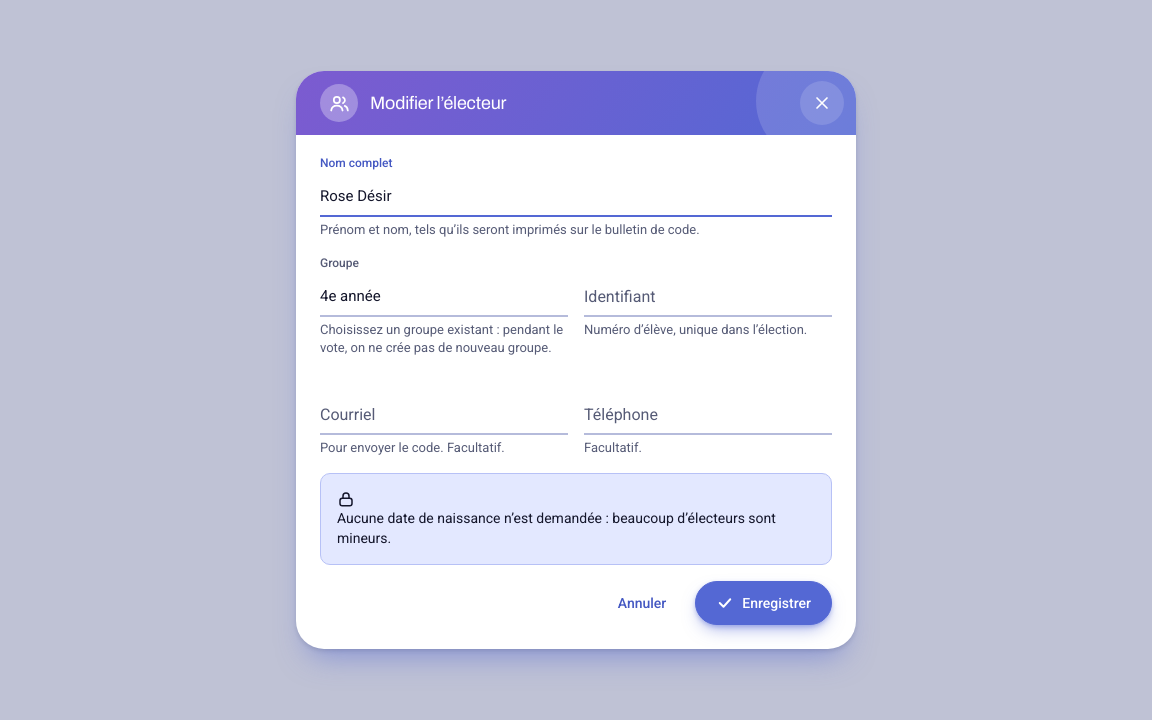
VoterModal in an open election › says a new group is not created while voting, and sends nothing
The image size is (1152, 720).
Step 1. Replace the text in the field with test id "voter-form-group" with "6e année" → [444, 295], box [320,273,568,317]
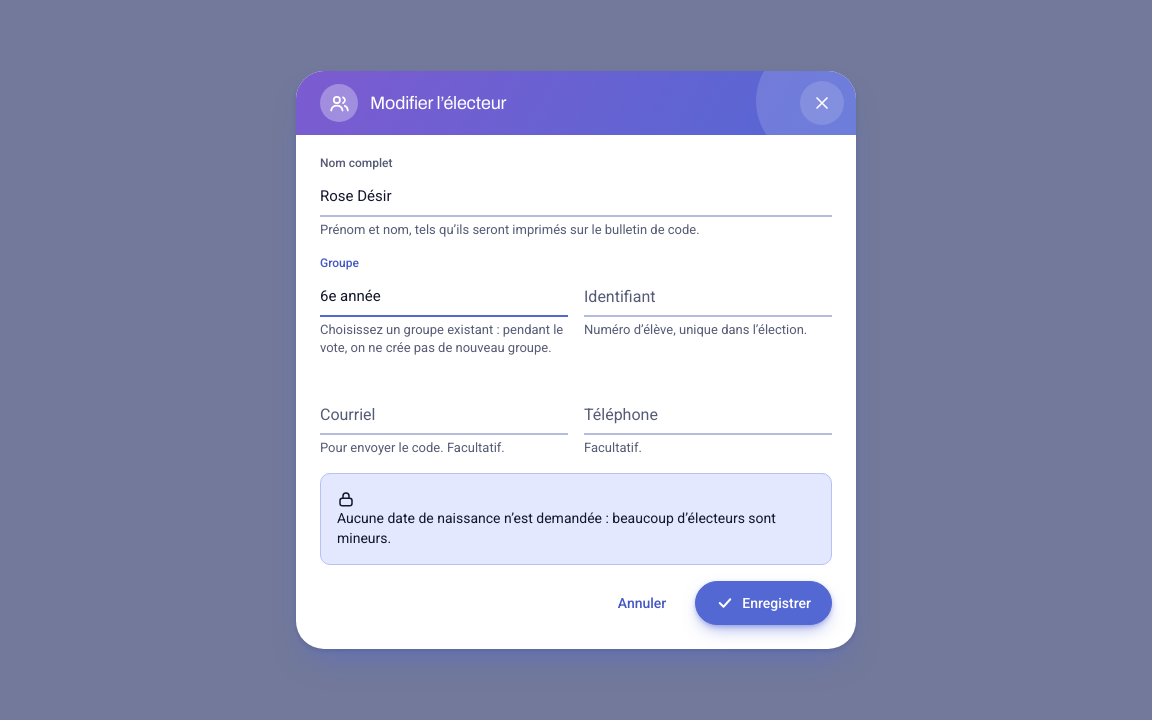
Step 2. Click the button with test id "voter-form-save" → [764, 603], box [695,581,832,625]
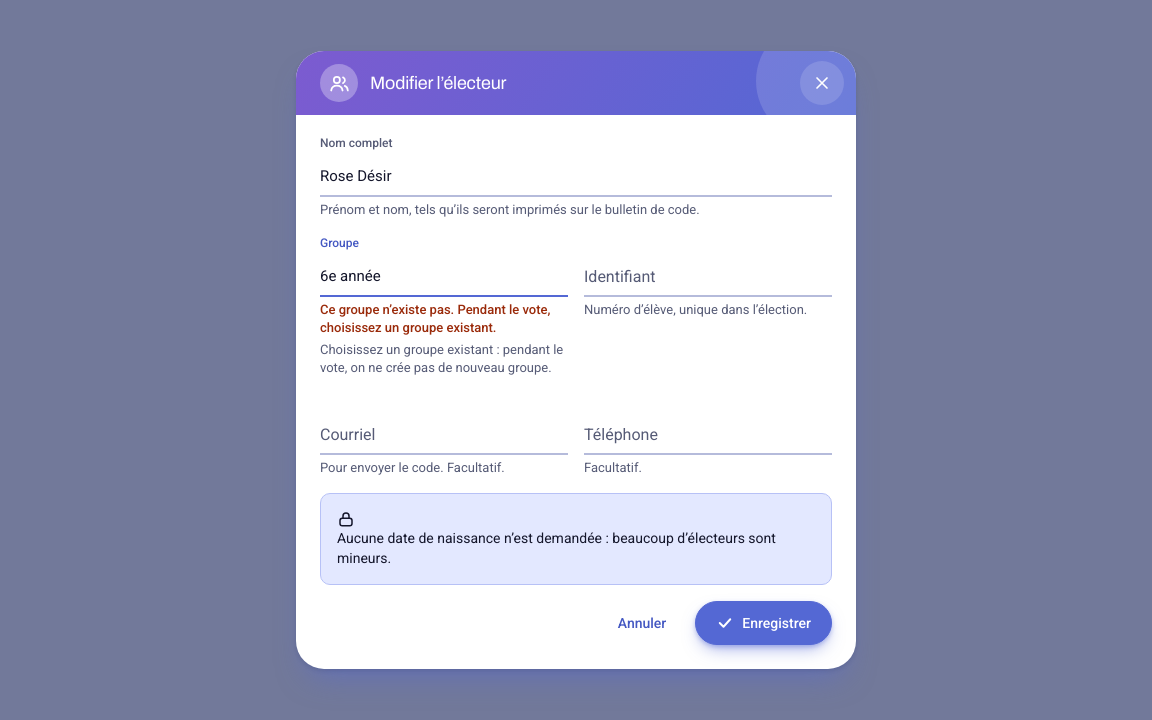
Result: the text with test id "voter-form-error-group" is shown at [320,301,568,337]
